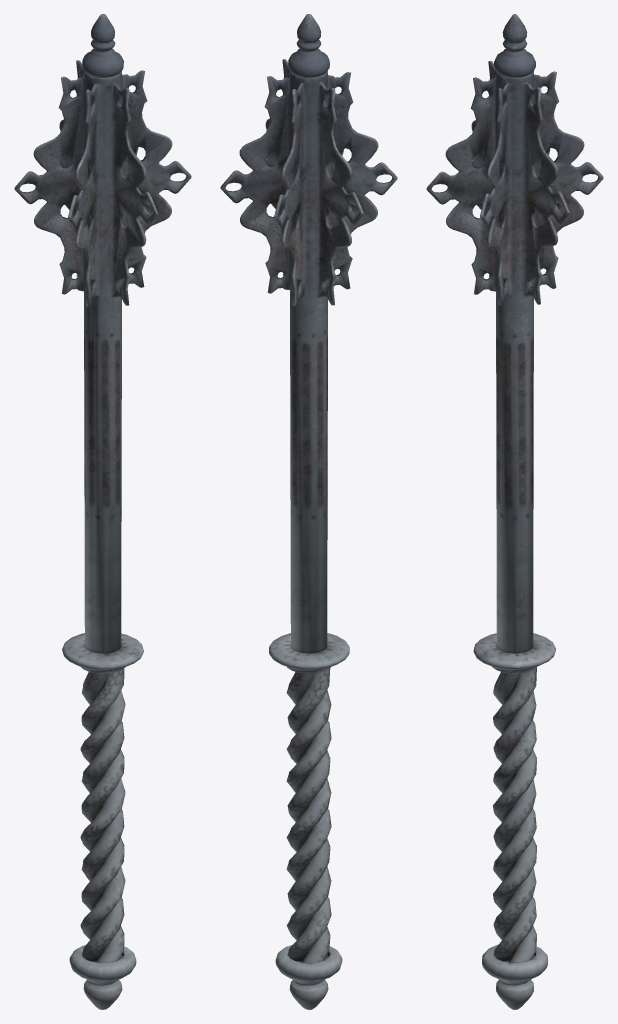
Rendered from ornate_medieval_mace.glb.
3 views of the same model, side by side, from view 1: azimuth 30°, elevation 25°; view 2: azimuth 150°, elevation 25°; view 3: azimuth 270°, elevation 25° (orthographic).
Parts seen in each view (by area): view 1: ornate_medieval_mace; view 2: ornate_medieval_mace; view 3: ornate_medieval_mace.
Boxes of the visible parts, x1,y1,x2,y2 form: ornate_medieval_mace: [14, 14, 191, 1009]; ornate_medieval_mace: [220, 14, 397, 1009]; ornate_medieval_mace: [426, 14, 603, 1009].
Bounding box in the file's own units: 0.0948 × 0.63 × 0.1017.
1 material, 1 textured.
